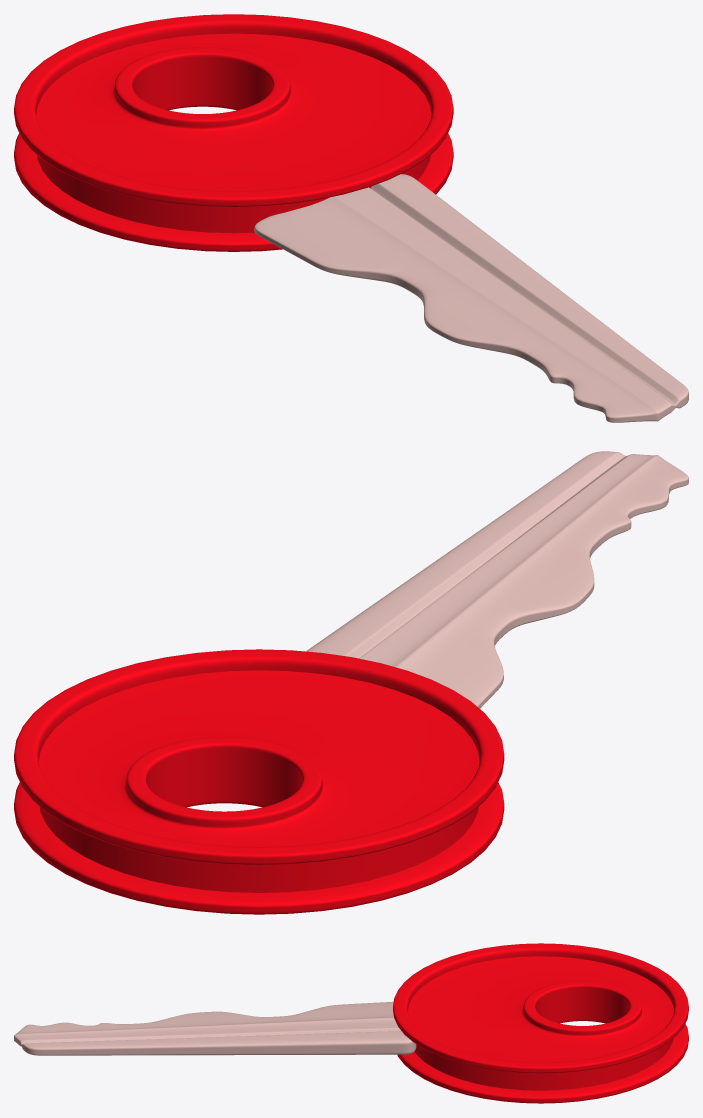
Rendered from red_key.fbx.
The picture shows the model from 3 angles, top to bottom: view 1: azimuth 30°, elevation 25°; view 2: azimuth 150°, elevation 25°; view 3: azimuth 270°, elevation 25°; orthographic projection. The views are drawn at different scales.
Visible parts, largest first — view 1: Circle; view 2: Circle; view 3: Circle.
Boxes of the visible parts, x1,y1,x2,y2 form: Circle: (14,14,688,422); Circle: (14,451,688,914); Circle: (14,943,688,1103).
Size of the model in its own units: 436 by 191 by 25.96.
